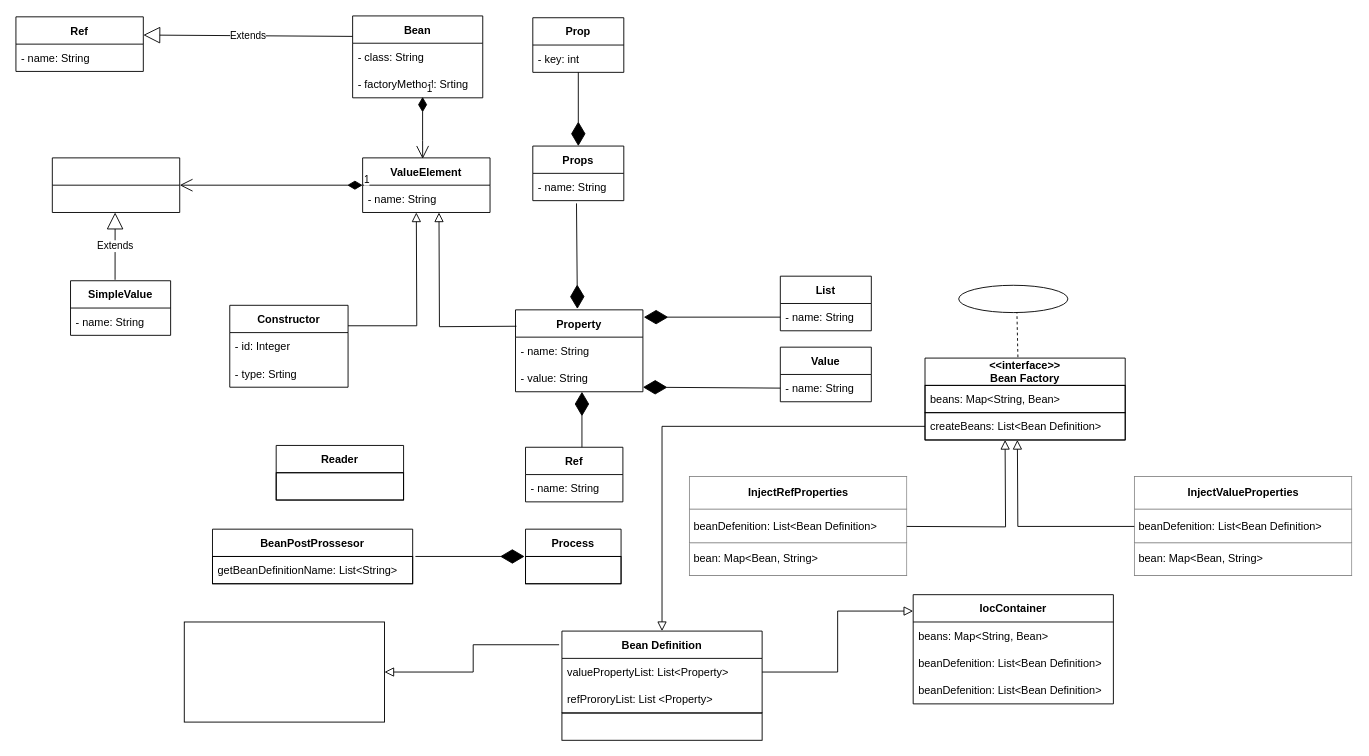
This 1369x756 diagram has some shape labels left out. Here are the shapes that lost their labels. From the top down, the centre of each, then its label:
point (115, 184): InjectedValue
point (1013, 298): Facade
point (339, 486): getProperty: String
point (283, 671): LoadConfiguration beanDefenition: List<Bean Definition> fileXml: String
point (661, 726): loadConfiguration: String
